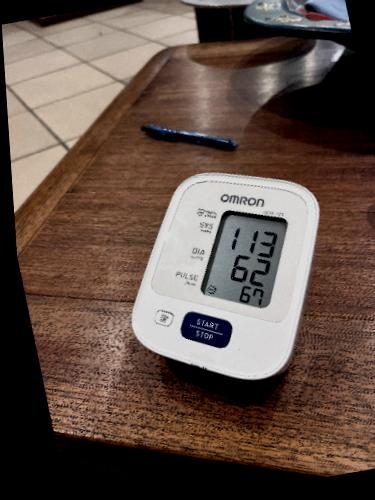bpm: (197, 202, 289, 310)
